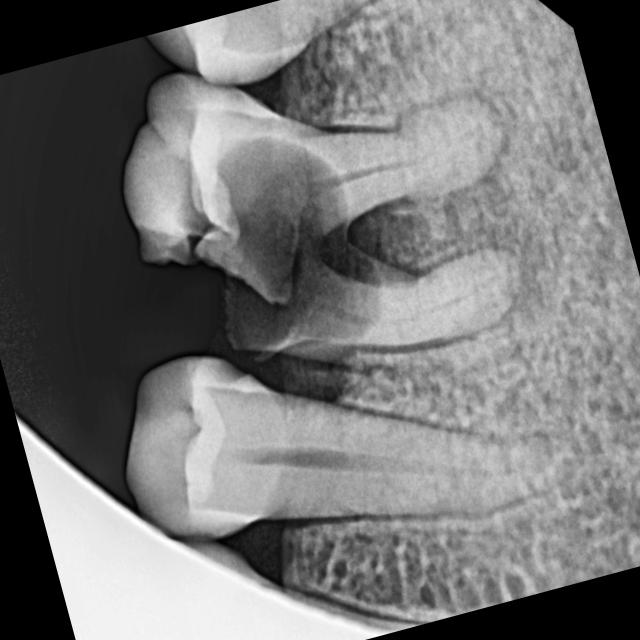Badly Decayed: (112, 63, 532, 378)
Caries: (192, 342, 290, 420)
Normal: (111, 347, 576, 551)
